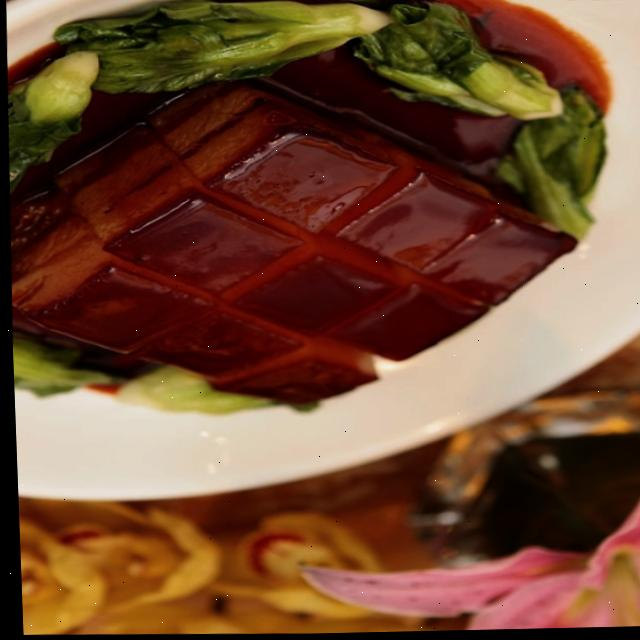牛肉菜式: (1, 35, 591, 475)
